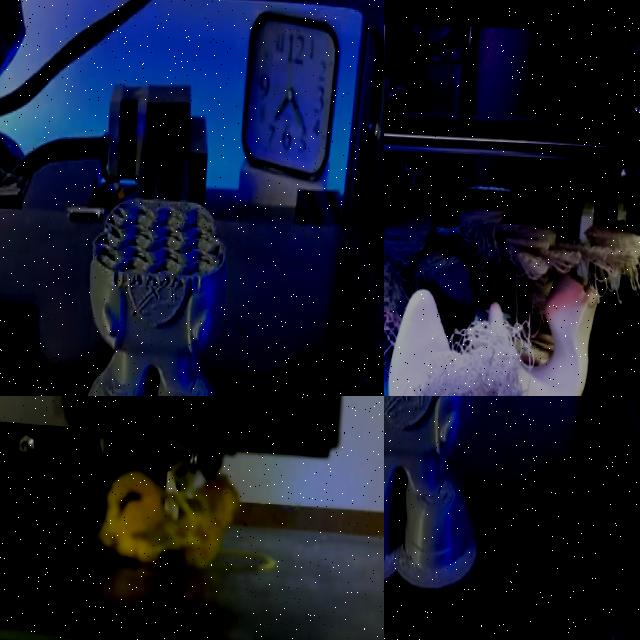spaghetti: (94, 454, 252, 576), (388, 289, 525, 396)
